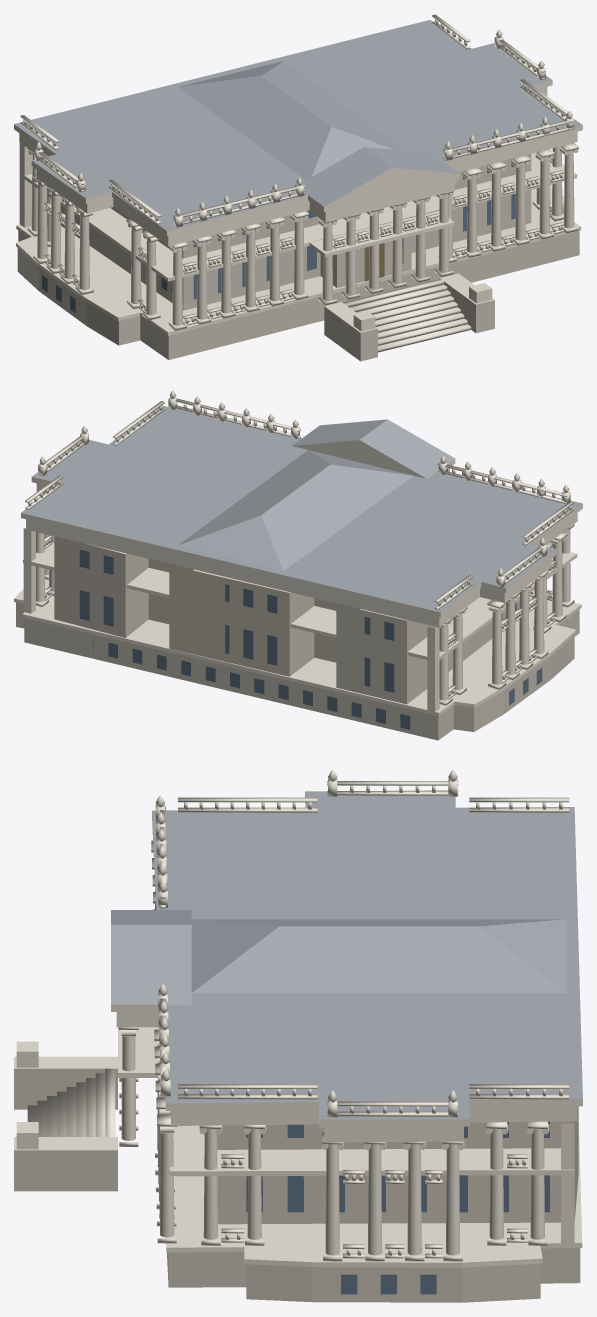
The model's file is seoul-seokjojeon.glb.
3 views of the same model, one above another, from view 1: azimuth 30°, elevation 25°; view 2: azimuth 150°, elevation 25°; view 3: azimuth 270°, elevation 25° (orthographic). The views are drawn at different scales.
Visible parts, largest first — view 1: Seokjojeon; view 2: Seokjojeon; view 3: Seokjojeon.
Boxes of the visible parts, x1,y1,x2,y2 form: Seokjojeon: [14, 14, 582, 361]; Seokjojeon: [14, 390, 582, 740]; Seokjojeon: [14, 769, 582, 1302].
Size of the model in its own units: 57.01 by 17.6 by 41.6.
